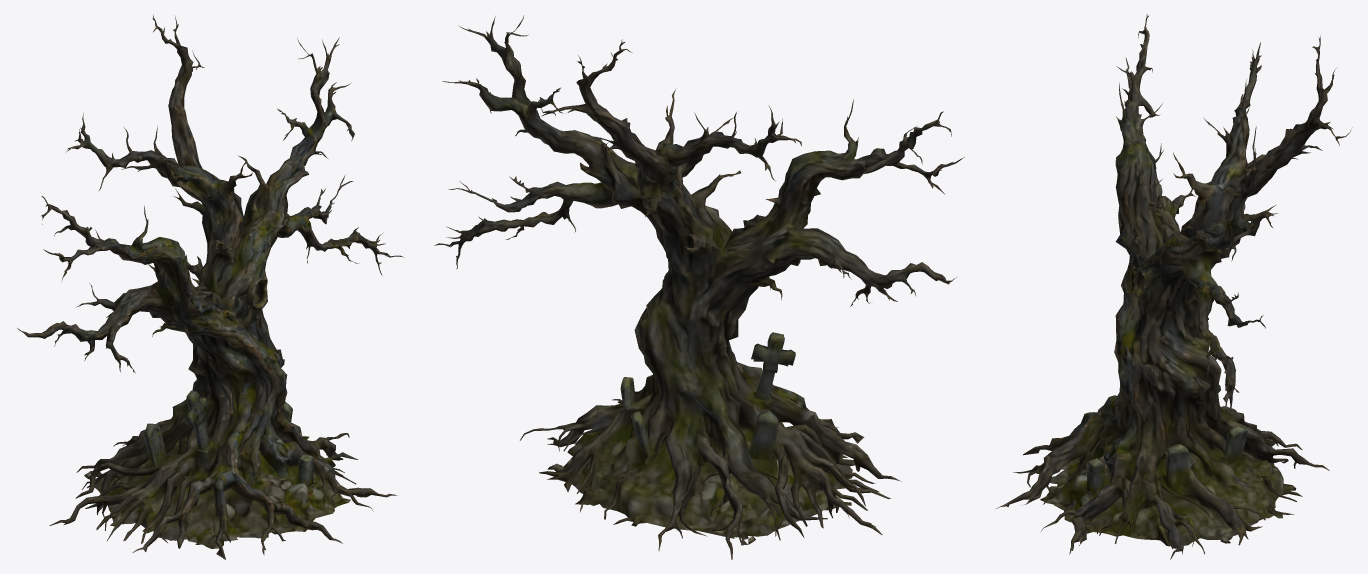
Rendered from graveyard_1.glb.
3 views of the same model, side by side, from view 1: azimuth 30°, elevation 25°; view 2: azimuth 150°, elevation 25°; view 3: azimuth 270°, elevation 25° (orthographic). The views are drawn at different scales.
Visible parts, largest first — view 1: geometry_0; view 2: geometry_0; view 3: geometry_0.
Boxes of the visible parts, left/top/right/bottom form: geometry_0: left=17, top=15, right=403, bottom=559; geometry_0: left=434, top=15, right=964, bottom=559; geometry_0: left=996, top=14, right=1352, bottom=559.
Size of the model in its own units: 0.9614 by 0.9429 by 0.6675.
1 material, 1 textured.
